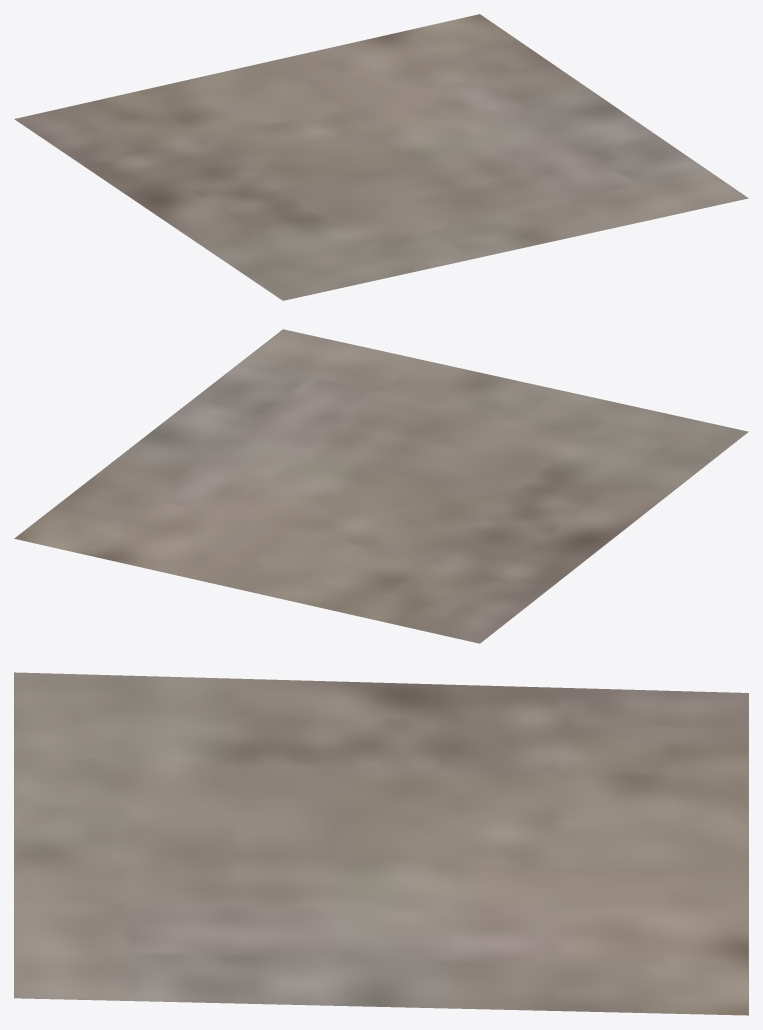
File: gis_42p6153_m5p5633.dae
3 renders of one model, top to bottom at view 1: azimuth 30°, elevation 25°; view 2: azimuth 150°, elevation 25°; view 3: azimuth 270°, elevation 25°, orthographic. The views are drawn at different scales.
Parts seen in each view (by area): view 1: terrain_node; view 2: terrain_node; view 3: terrain_node.
Part boxes in pixels (box(x1,y1,x2,y2)): terrain_node: box(14, 14, 748, 300); terrain_node: box(14, 329, 748, 643); terrain_node: box(14, 672, 748, 1015).
Size of the model in its own units: 10 by 10 by 0.4877.
Materials: 1 (1 with a texture image).
